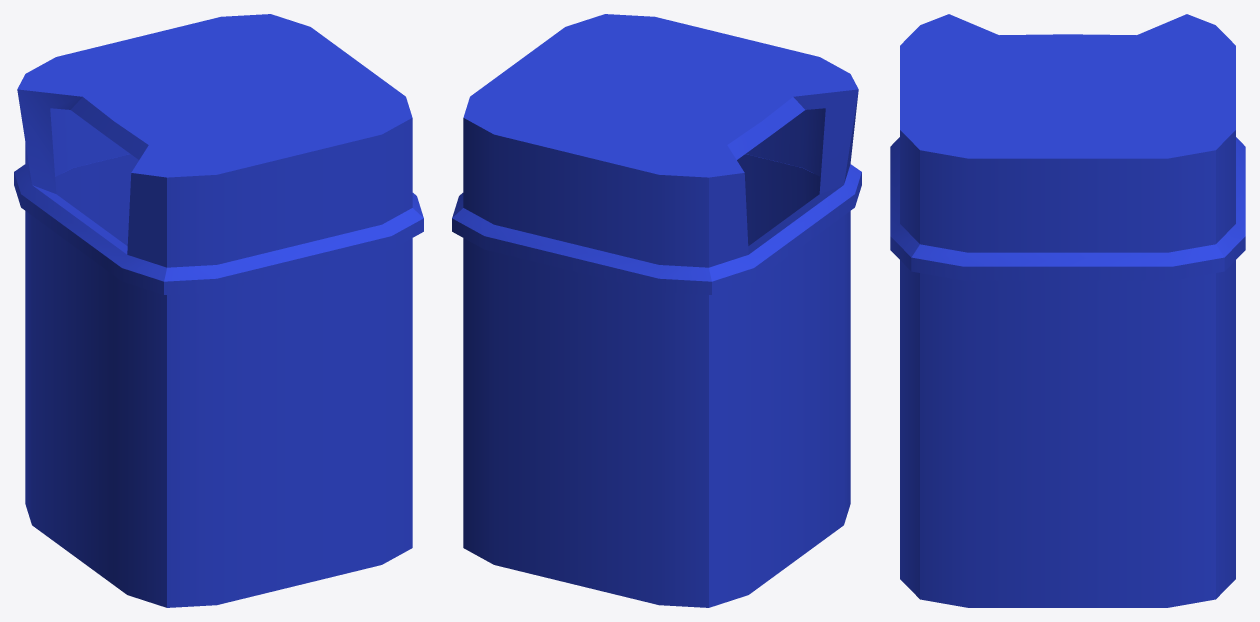
Rendered from Bin.fbx.
The picture shows the model from 3 angles, left to right: view 1: azimuth 30°, elevation 25°; view 2: azimuth 150°, elevation 25°; view 3: azimuth 270°, elevation 25°; orthographic projection. The views are drawn at different scales.
Parts seen in each view (by area): view 1: Bin-Low; view 2: Bin-Low; view 3: Bin-Low.
Boxes of the visible parts, left/top/right/bottom form: Bin-Low: left=14, top=14, right=423, bottom=607; Bin-Low: left=452, top=14, right=861, bottom=607; Bin-Low: left=890, top=14, right=1245, bottom=607.
Bounding box in the file's own units: 21.64 × 30.16 × 21.64.
